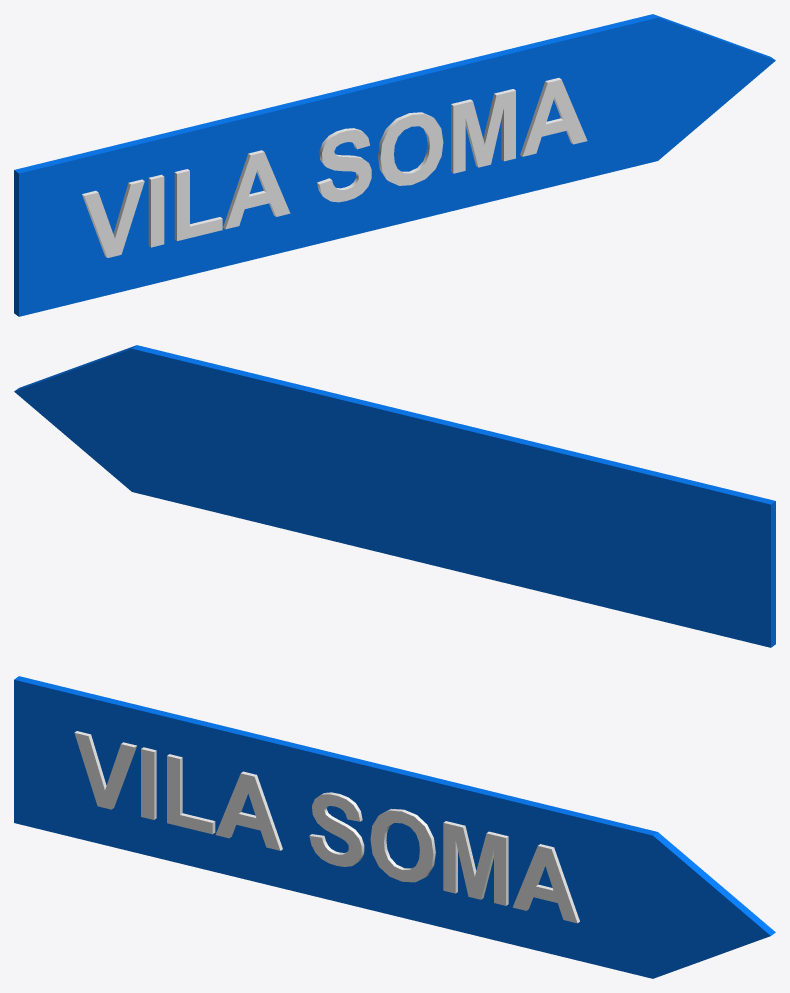
File: placa Vila Soma-2.fbx
3 views of the same model, one above another, from view 1: azimuth 30°, elevation 25°; view 2: azimuth 150°, elevation 25°; view 3: azimuth 330°, elevation 25° (orthographic).
Visible parts, largest first — view 1: vila soma; view 2: vila soma; view 3: vila soma.
Part boxes in pixels (x1=…): vila soma: x1=14, y1=14, x2=775, y2=316; vila soma: x1=14, y1=345, x2=775, y2=647; vila soma: x1=14, y1=676, x2=775, y2=978.
Size of the model in its own units: 1750 by 317 by 30.
